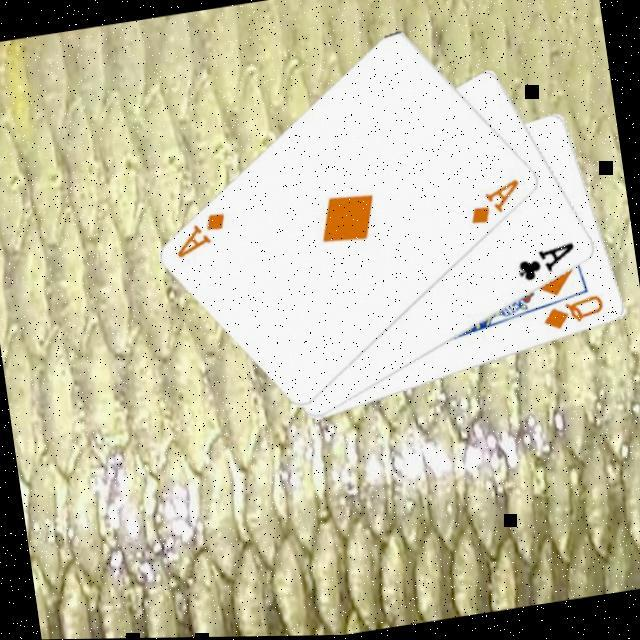AC: (512, 241, 582, 290)
AD: (462, 177, 527, 233), (168, 210, 233, 266)
QD: (538, 294, 609, 340)
